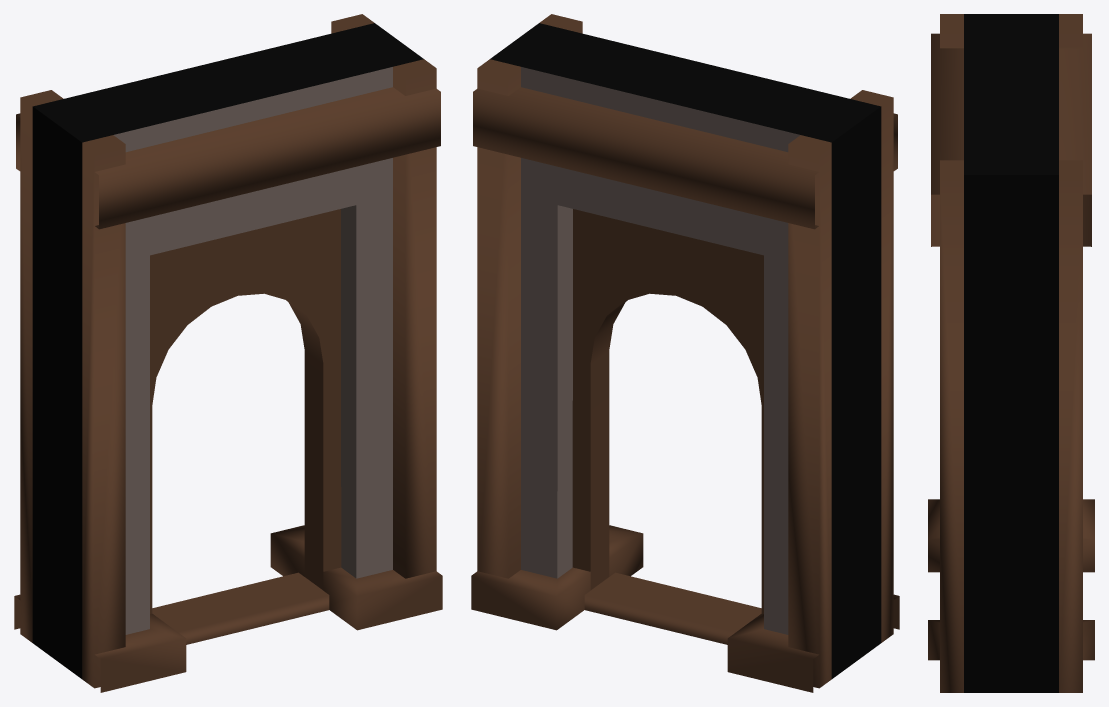
The model's file is Wall_S_RoomDoor.fbx.
3 renders of one model, left to right at view 1: azimuth 30°, elevation 25°; view 2: azimuth 150°, elevation 25°; view 3: azimuth 270°, elevation 25°, orthographic. The views are drawn at different scales.
Parts seen in each view (by area): view 1: Wall_S_RoomDoor; view 2: Wall_S_RoomDoor; view 3: Wall_S_RoomDoor.
Boxes of the visible parts, bbox=[...] form: Wall_S_RoomDoor: bbox=[14, 14, 442, 692]; Wall_S_RoomDoor: bbox=[471, 14, 899, 692]; Wall_S_RoomDoor: bbox=[928, 14, 1094, 692].
Bounding box in the file's own units: 3.84 × 5.76 × 1.68.
